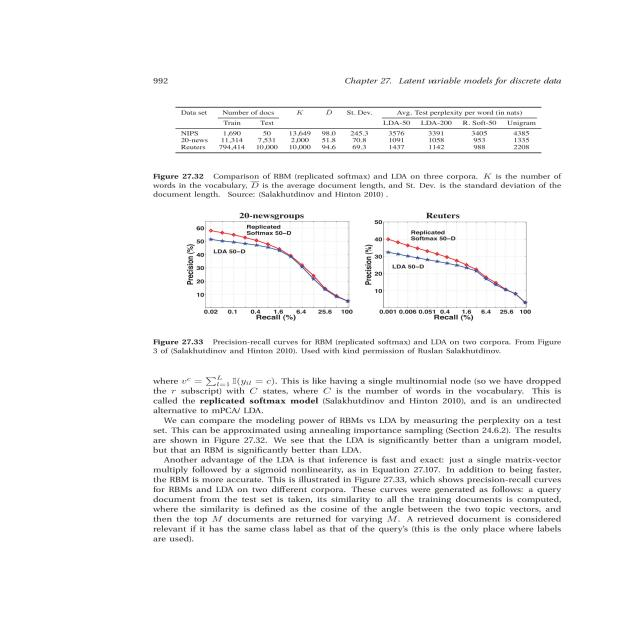diagram: (119, 205, 598, 365)
